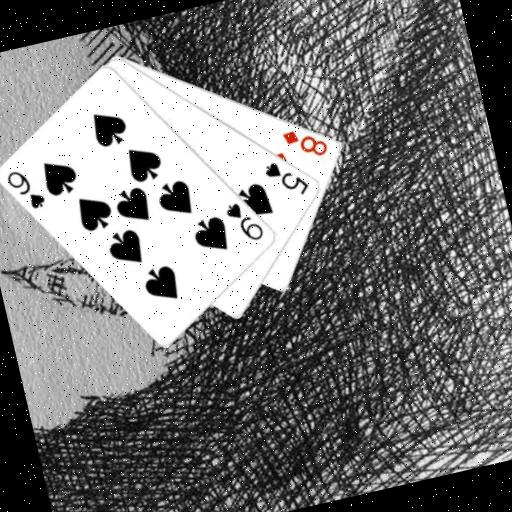5S: (260, 152, 313, 204)
8D: (278, 120, 332, 165)
9S: (2, 163, 49, 216), (222, 195, 268, 248)
